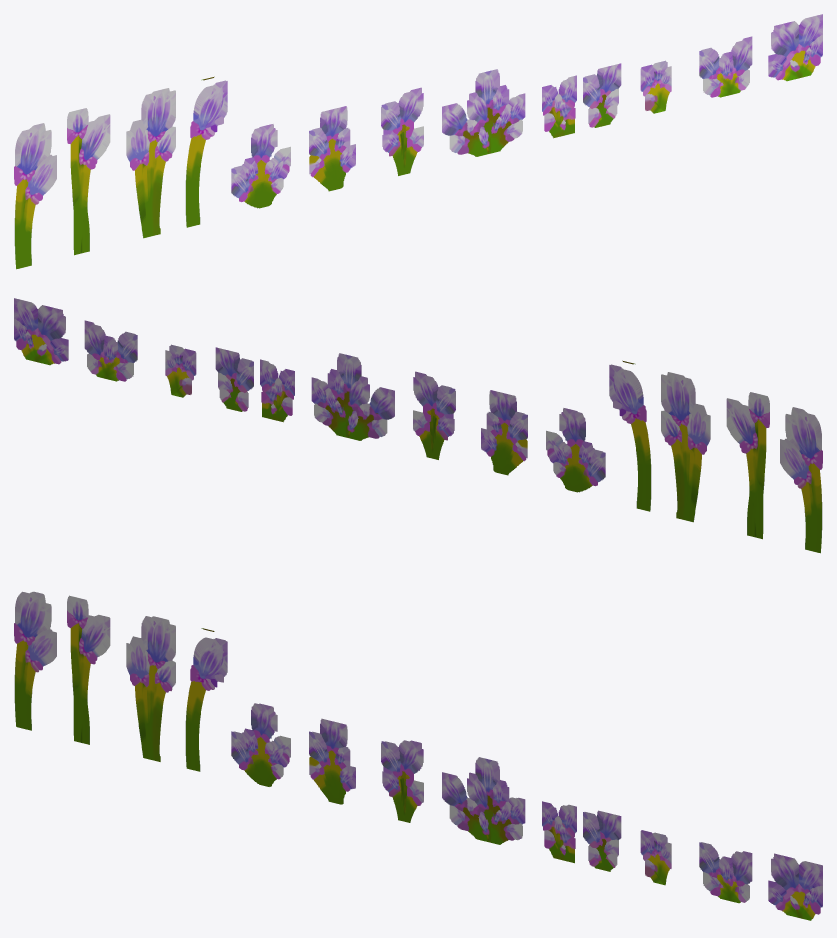
Rendered from P_Bush07_Tulip.FBX.
3 renders of one model, top to bottom at view 1: azimuth 30°, elevation 25°; view 2: azimuth 150°, elevation 25°; view 3: azimuth 330°, elevation 25°, orthographic.
Parts seen in each view (by area): view 1: mesh_Tulip_F, mesh_Tulip_K, mesh_Tulip_M, mesh_Tulip_L, mesh_Tulip_I, mesh_Tulip_H, mesh_Tulip_J, mesh_Tulip_A, mesh_Tulip_G, mesh_Tulip_B, mesh_Tulip_D, mesh_Tulip_E (+1 smaller); view 2: mesh_Tulip_F, mesh_Tulip_K, mesh_Tulip_M, mesh_Tulip_L, mesh_Tulip_I, mesh_Tulip_H, mesh_Tulip_J, mesh_Tulip_A, mesh_Tulip_G, mesh_Tulip_B, mesh_Tulip_D, mesh_Tulip_E (+1 smaller); view 3: mesh_Tulip_F, mesh_Tulip_K, mesh_Tulip_M, mesh_Tulip_L, mesh_Tulip_I, mesh_Tulip_H, mesh_Tulip_J, mesh_Tulip_A, mesh_Tulip_G, mesh_Tulip_B, mesh_Tulip_D, mesh_Tulip_E (+1 smaller).
Part boxes in pixels (x1=…): mesh_Tulip_F: x1=442, y1=69, x2=525, y2=156; mesh_Tulip_K: x1=126, y1=88, x2=175, y2=238; mesh_Tulip_M: x1=14, y1=123, x2=56, y2=269; mesh_Tulip_L: x1=67, y1=108, x2=110, y2=255; mesh_Tulip_I: x1=231, y1=124, x2=290, y2=208; mesh_Tulip_H: x1=309, y1=106, x2=355, y2=191; mesh_Tulip_J: x1=185, y1=76, x2=227, y2=227; mesh_Tulip_A: x1=768, y1=14, x2=822, y2=81; mesh_Tulip_G: x1=381, y1=87, x2=423, y2=175; mesh_Tulip_B: x1=699, y1=36, x2=752, y2=97; mesh_Tulip_D: x1=583, y1=63, x2=621, y2=127; mesh_Tulip_E: x1=542, y1=75, x2=576, y2=138; mesh_Tulip_F: x1=311, y1=353, x2=394, y2=440; mesh_Tulip_K: x1=661, y1=372, x2=710, y2=522; mesh_Tulip_M: x1=780, y1=407, x2=822, y2=553; mesh_Tulip_L: x1=726, y1=392, x2=769, y2=539; mesh_Tulip_I: x1=546, y1=408, x2=605, y2=492; mesh_Tulip_H: x1=481, y1=390, x2=527, y2=475; mesh_Tulip_J: x1=609, y1=360, x2=651, y2=511; mesh_Tulip_A: x1=14, y1=298, x2=68, y2=365; mesh_Tulip_G: x1=413, y1=371, x2=455, y2=459; mesh_Tulip_B: x1=84, y1=320, x2=137, y2=381; mesh_Tulip_D: x1=215, y1=347, x2=253, y2=411; mesh_Tulip_E: x1=260, y1=359, x2=294, y2=422; mesh_Tulip_F: x1=442, y1=757, x2=525, y2=844; mesh_Tulip_K: x1=126, y1=616, x2=175, y2=761; mesh_Tulip_M: x1=14, y1=591, x2=56, y2=730; mesh_Tulip_L: x1=67, y1=595, x2=110, y2=744; mesh_Tulip_I: x1=231, y1=703, x2=290, y2=786; mesh_Tulip_H: x1=309, y1=718, x2=355, y2=804; mesh_Tulip_J: x1=185, y1=628, x2=227, y2=771; mesh_Tulip_A: x1=768, y1=853, x2=822, y2=920; mesh_Tulip_G: x1=381, y1=740, x2=423, y2=822; mesh_Tulip_B: x1=699, y1=842, x2=752, y2=903; mesh_Tulip_D: x1=583, y1=810, x2=621, y2=871; mesh_Tulip_E: x1=542, y1=801, x2=576, y2=863.
Bounding box in the file's own units: 573 × 97.73 × 6.67e-05.
